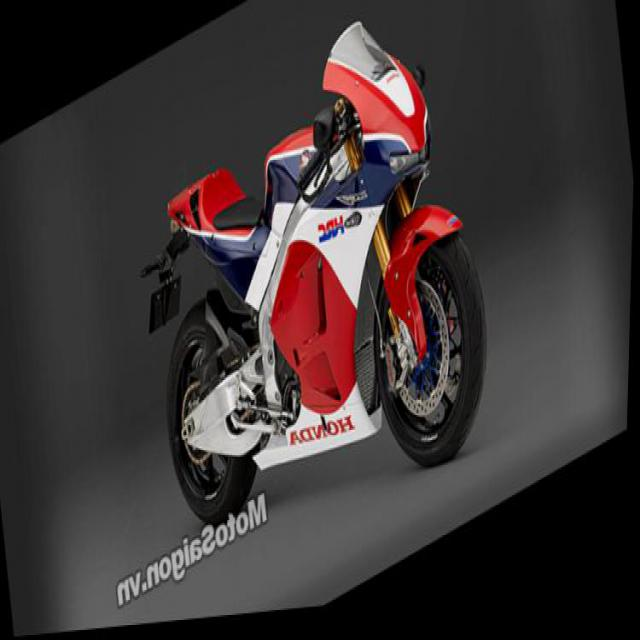HRC RCV 213: (126, 0, 509, 625)
